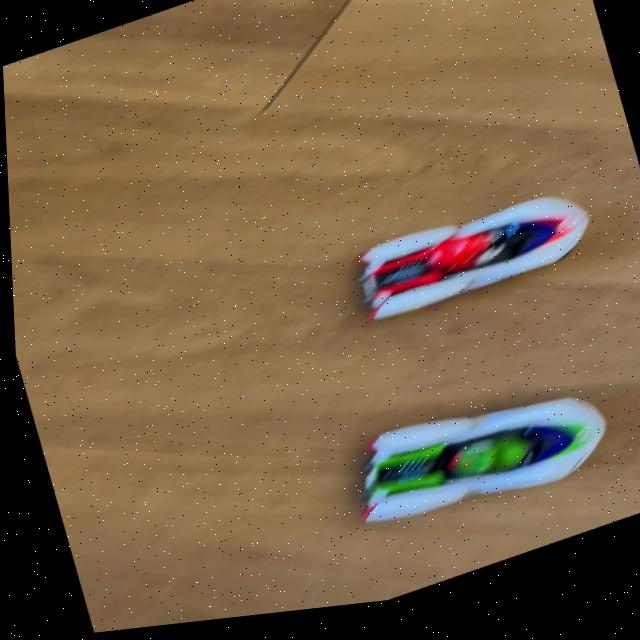mario: (317, 180, 619, 362)
yoshi: (315, 352, 640, 567)
